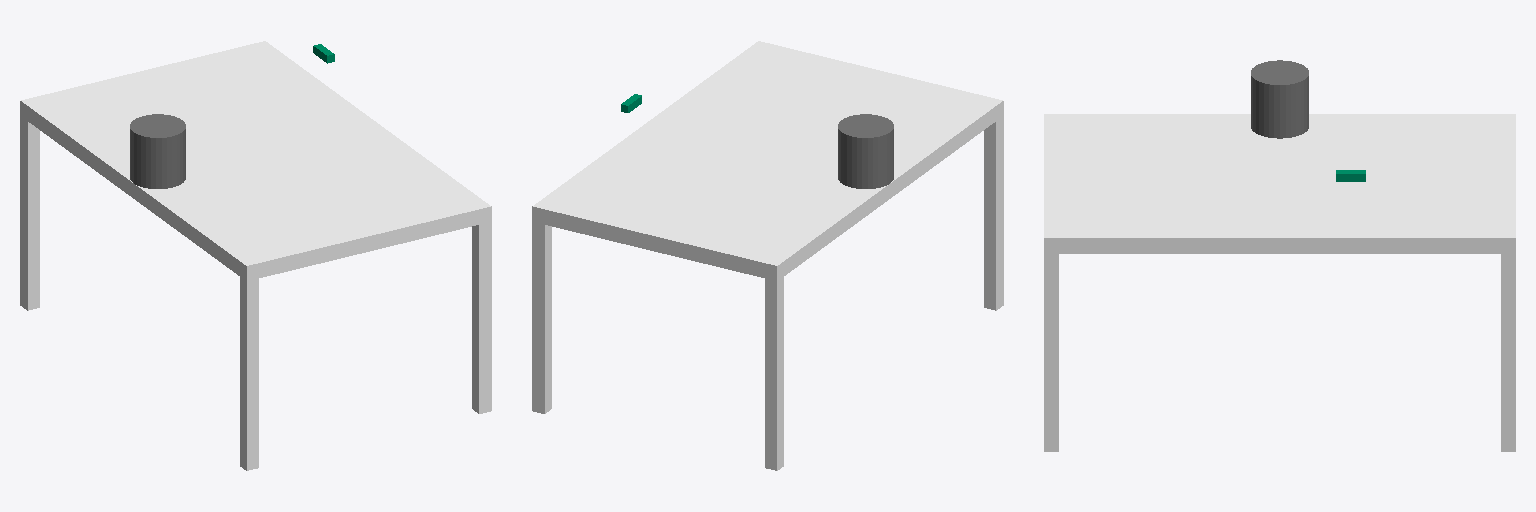
robot.urdf — ur5_3finger:
<?xml version="1.0" ?>
<!-- =================================================================================== -->
<!-- |    This document was autogenerated by xacro from ur5_peg.urdf.xacro             | -->
<!-- |    EDITING THIS FILE BY HAND IS NOT RECOMMENDED                                 | -->
<!-- =================================================================================== -->
<robot name="ur5_3finger">
  <gazebo>
    <plugin filename="libgazebo_ros_control.so" name="ros_control">
      <!--robotNamespace>/</robotNamespace-->
      <!--robotSimType>gazebo_ros_control/DefaultRobotHWSim</robotSimType-->
    </plugin>
    <!--
    <plugin name="gazebo_ros_power_monitor_controller" filename="libgazebo_ros_power_monitor.so">
      <alwaysOn>true</alwaysOn>
      <updateRate>1.0</updateRate>
      <timeout>5</timeout>
      <powerStateTopic>power_state</powerStateTopic>
      <powerStateRate>10.0</powerStateRate>
      <fullChargeCapacity>87.78</fullChargeCapacity>     
      <dischargeRate>-474</dischargeRate>
      <chargeRate>525</chargeRate>
      <dischargeVoltage>15.52</dischargeVoltage>
      <chargeVoltage>16.41</chargeVoltage>
    </plugin>
-->
  </gazebo>
  <!-- measured from model -->
  <!--property name="shoulder_height" value="0.089159" /-->
  <!--property name="shoulder_offset" value="0.13585" /-->
  <!-- shoulder_offset - elbow_offset + wrist_1_length = 0.10915 -->
  <!--property name="upper_arm_length" value="0.42500" /-->
  <!--property name="elbow_offset" value="0.1197" /-->
  <!-- CAD measured -->
  <!--property name="forearm_length" value="0.39225" /-->
  <!--property name="wrist_1_length" value="0.093" /-->
  <!-- CAD measured -->
  <!--property name="wrist_2_length" value="0.09465" /-->
  <!-- In CAD this distance is 0.930, but in the spec it is 0.09465 -->
  <!--property name="wrist_3_length" value="0.0823" /-->
  <!-- manually measured -->
  <link name="base_link">
    <visual>
      <geometry>
        <mesh filename="package://ur_description/meshes/ur5/visual/base.dae"/>
      </geometry>
      <material name="LightGrey">
        <color rgba="0.7 0.7 0.7 1.0"/>
      </material>
    </visual>
    <collision>
      <geometry>
        <mesh filename="package://ur_description/meshes/ur5/collision/base.stl"/>
      </geometry>
    </collision>
    <inertial>
      <mass value="4.0"/>
      <origin rpy="0 0 0" xyz="0.0 0.0 0.0"/>
      <inertia ixx="0.00443333156" ixy="0.0" ixz="0.0" iyy="0.00443333156" iyz="0.0" izz="0.0072"/>
    </inertial>
  </link>
  <joint name="shoulder_pan_joint" type="revolute">
    <parent link="base_link"/>
    <child link="shoulder_link"/>
    <origin rpy="0.0 0.0 0.0" xyz="0.0 0.0 0.089159"/>
    <axis xyz="0 0 1"/>
    <limit effort="150.0" lower="-6.283185307179586" upper="6.283185307179586" velocity="3.15"/>
    <dynamics damping="0.0" friction="0.0"/>
  </joint>
  <link name="shoulder_link">
    <visual>
      <geometry>
        <mesh filename="package://ur_description/meshes/ur5/visual/shoulder.dae"/>
      </geometry>
      <material name="LightGrey">
        <color rgba="0.7 0.7 0.7 1.0"/>
      </material>
    </visual>
    <collision>
      <geometry>
        <mesh filename="package://ur_description/meshes/ur5/collision/shoulder.stl"/>
      </geometry>
    </collision>
    <inertial>
      <mass value="3.7"/>
      <origin rpy="0 0 0" xyz="0.0 0.0 0.0"/>
      <inertia ixx="0.010267495893" ixy="0.0" ixz="0.0" iyy="0.010267495893" iyz="0.0" izz="0.00666"/>
    </inertial>
  </link>
  <joint name="shoulder_lift_joint" type="revolute">
    <parent link="shoulder_link"/>
    <child link="upper_arm_link"/>
    <origin rpy="0.0 1.5707963267948966 0.0" xyz="0.0 0.13585 0.0"/>
    <axis xyz="0 1 0"/>
    <limit effort="150.0" lower="-6.283185307179586" upper="6.283185307179586" velocity="3.15"/>
    <dynamics damping="0.0" friction="0.0"/>
  </joint>
  <link name="upper_arm_link">
    <visual>
      <geometry>
        <mesh filename="package://ur_description/meshes/ur5/visual/upperarm.dae"/>
      </geometry>
      <material name="LightGrey">
        <color rgba="0.7 0.7 0.7 1.0"/>
      </material>
    </visual>
    <collision>
      <geometry>
        <mesh filename="package://ur_description/meshes/ur5/collision/upperarm.stl"/>
      </geometry>
    </collision>
    <inertial>
      <mass value="8.393"/>
      <origin rpy="0 0 0" xyz="0.0 0.0 0.28"/>
      <inertia ixx="0.22689067591036005" ixy="0.0" ixz="0.0" iyy="0.22689067591036005" iyz="0.0" izz="0.0151074"/>
    </inertial>
  </link>
  <joint name="elbow_joint" type="revolute">
    <parent link="upper_arm_link"/>
    <child link="forearm_link"/>
    <origin rpy="0.0 0.0 0.0" xyz="0.0 -0.1197 0.425"/>
    <axis xyz="0 1 0"/>
    <limit effort="150.0" lower="-3.141592653589793" upper="3.141592653589793" velocity="3.15"/>
    <dynamics damping="0.0" friction="0.0"/>
  </joint>
  <link name="forearm_link">
    <visual>
      <geometry>
        <mesh filename="package://ur_description/meshes/ur5/visual/forearm.dae"/>
      </geometry>
      <material name="LightGrey">
        <color rgba="0.7 0.7 0.7 1.0"/>
      </material>
    </visual>
    <collision>
      <geometry>
        <mesh filename="package://ur_description/meshes/ur5/collision/forearm.stl"/>
      </geometry>
    </collision>
    <inertial>
      <mass value="2.275"/>
      <origin rpy="0 0 0" xyz="0.0 0.0 0.196125"/>
      <inertia ixx="0.03121679102890359" ixy="0.0" ixz="0.0" iyy="0.03121679102890359" iyz="0.0" izz="0.004095"/>
    </inertial>
  </link>
  <joint name="wrist_1_joint" type="revolute">
    <parent link="forearm_link"/>
    <child link="wrist_1_link"/>
    <origin rpy="0.0 1.5707963267948966 0.0" xyz="0.0 0.0 0.39225"/>
    <axis xyz="0 1 0"/>
    <limit effort="28.0" lower="-6.283185307179586" upper="6.283185307179586" velocity="3.2"/>
    <dynamics damping="0.0" friction="0.0"/>
  </joint>
  <link name="wrist_1_link">
    <visual>
      <geometry>
        <mesh filename="package://ur_description/meshes/ur5/visual/wrist1.dae"/>
      </geometry>
      <material name="LightGrey">
        <color rgba="0.7 0.7 0.7 1.0"/>
      </material>
    </visual>
    <collision>
      <geometry>
        <mesh filename="package://ur_description/meshes/ur5/collision/wrist1.stl"/>
      </geometry>
    </collision>
    <inertial>
      <mass value="1.219"/>
      <origin rpy="0 0 0" xyz="0.0 0.093 0.0"/>
      <inertia ixx="0.0025598989760400002" ixy="0.0" ixz="0.0" iyy="0.0025598989760400002" iyz="0.0" izz="0.0021942"/>
    </inertial>
  </link>
  <joint name="wrist_2_joint" type="revolute">
    <parent link="wrist_1_link"/>
    <child link="wrist_2_link"/>
    <origin rpy="0.0 0.0 0.0" xyz="0.0 0.093 0.0"/>
    <axis xyz="0 0 1"/>
    <limit effort="28.0" lower="-6.283185307179586" upper="6.283185307179586" velocity="3.2"/>
    <dynamics damping="0.0" friction="0.0"/>
  </joint>
  <link name="wrist_2_link">
    <visual>
      <geometry>
        <mesh filename="package://ur_description/meshes/ur5/visual/wrist2.dae"/>
      </geometry>
      <material name="LightGrey">
        <color rgba="0.7 0.7 0.7 1.0"/>
      </material>
    </visual>
    <collision>
      <geometry>
        <mesh filename="package://ur_description/meshes/ur5/collision/wrist2.stl"/>
      </geometry>
    </collision>
    <inertial>
      <mass value="1.219"/>
      <origin rpy="0 0 0" xyz="0.0 0.0 0.09465"/>
      <inertia ixx="0.0025598989760400002" ixy="0.0" ixz="0.0" iyy="0.0025598989760400002" iyz="0.0" izz="0.0021942"/>
    </inertial>
  </link>
  <joint name="wrist_3_joint" type="revolute">
    <parent link="wrist_2_link"/>
    <child link="wrist_3_link"/>
    <origin rpy="0.0 0.0 0.0" xyz="0.0 0.0 0.09465"/>
    <axis xyz="0 1 0"/>
    <limit effort="28.0" lower="-6.283185307179586" upper="6.283185307179586" velocity="3.2"/>
    <dynamics damping="0.0" friction="0.0"/>
  </joint>
  <link name="wrist_3_link">
    <visual>
      <geometry>
        <mesh filename="package://ur_description/meshes/ur5/visual/wrist3.dae"/>
      </geometry>
      <material name="LightGrey">
        <color rgba="0.7 0.7 0.7 1.0"/>
      </material>
    </visual>
    <collision>
      <geometry>
        <mesh filename="package://ur_description/meshes/ur5/collision/wrist3.stl"/>
      </geometry>
    </collision>
    <inertial>
      <mass value="0.1879"/>
      <origin rpy="1.5707963267948966 0 0" xyz="0.0 0.06505 0.0"/>
      <inertia ixx="8.469589112163e-05" ixy="0.0" ixz="0.0" iyy="8.469589112163e-05" iyz="0.0" izz="0.0001321171875"/>
    </inertial>
  </link>
  <joint name="ee_fixed_joint" type="fixed">
    <parent link="wrist_3_link"/>
    <child link="ee_link"/>
    <origin rpy="0.0 0.0 1.5707963267948966" xyz="0.0 0.0823 0.0"/>
  </joint>
  <link name="ee_link">
    <collision>
      <geometry>
        <box size="0.01 0.01 0.01"/>
      </geometry>
      <origin rpy="0 0 0" xyz="-0.01 0 0"/>
    </collision>
  </link>
  <transmission name="shoulder_pan_trans">
    <type>transmission_interface/SimpleTransmission</type>
    <joint name="shoulder_pan_joint">
      <hardwareInterface>hardware_interface/PositionJointInterface</hardwareInterface>
    </joint>
    <actuator name="shoulder_pan_motor">
      <mechanicalReduction>1</mechanicalReduction>
    </actuator>
  </transmission>
  <transmission name="shoulder_lift_trans">
    <type>transmission_interface/SimpleTransmission</type>
    <joint name="shoulder_lift_joint">
      <hardwareInterface>hardware_interface/PositionJointInterface</hardwareInterface>
    </joint>
    <actuator name="shoulder_lift_motor">
      <mechanicalReduction>1</mechanicalReduction>
    </actuator>
  </transmission>
  <transmission name="elbow_trans">
    <type>transmission_interface/SimpleTransmission</type>
    <joint name="elbow_joint">
      <hardwareInterface>hardware_interface/PositionJointInterface</hardwareInterface>
    </joint>
    <actuator name="elbow_motor">
      <mechanicalReduction>1</mechanicalReduction>
    </actuator>
  </transmission>
  <transmission name="wrist_1_trans">
    <type>transmission_interface/SimpleTransmission</type>
    <joint name="wrist_1_joint">
      <hardwareInterface>hardware_interface/PositionJointInterface</hardwareInterface>
    </joint>
    <actuator name="wrist_1_motor">
      <mechanicalReduction>1</mechanicalReduction>
    </actuator>
  </transmission>
  <transmission name="wrist_2_trans">
    <type>transmission_interface/SimpleTransmission</type>
    <joint name="wrist_2_joint">
      <hardwareInterface>hardware_interface/PositionJointInterface</hardwareInterface>
    </joint>
    <actuator name="wrist_2_motor">
      <mechanicalReduction>1</mechanicalReduction>
    </actuator>
  </transmission>
  <transmission name="wrist_3_trans">
    <type>transmission_interface/SimpleTransmission</type>
    <joint name="wrist_3_joint">
      <hardwareInterface>hardware_interface/PositionJointInterface</hardwareInterface>
    </joint>
    <actuator name="wrist_3_motor">
      <mechanicalReduction>1</mechanicalReduction>
    </actuator>
  </transmission>
  <gazebo reference="shoulder_link">
    <selfCollide>true</selfCollide>
  </gazebo>
  <gazebo reference="upper_arm_link">
    <selfCollide>true</selfCollide>
  </gazebo>
  <gazebo reference="forearm_link">
    <selfCollide>true</selfCollide>
  </gazebo>
  <gazebo reference="wrist_1_link">
    <selfCollide>true</selfCollide>
  </gazebo>
  <gazebo reference="wrist_3_link">
    <selfCollide>true</selfCollide>
  </gazebo>
  <gazebo reference="wrist_2_link">
    <selfCollide>true</selfCollide>
  </gazebo>
  <gazebo reference="ee_link">
    <selfCollide>true</selfCollide>
  </gazebo>
  <!-- ROS base_link to UR 'Base' Coordinates transform -->
  <link name="base"/>
  <joint name="base_link-base_fixed_joint" type="fixed">
    <!-- NOTE: this rotation is only needed as long as base_link itself is
                 not corrected wrt the real robot (ie: rotated over 180
                 degrees)
      -->
    <origin rpy="0 0 -3.141592653589793" xyz="0 0 0"/>
    <parent link="base_link"/>
    <child link="base"/>
  </joint>
  <!-- Frame coincident with all-zeros TCP on UR controller -->
  <link name="tool0"/>
  <joint name="wrist_3_link-tool0_fixed_joint" type="fixed">
    <origin rpy="-1.5707963267948966 0 0" xyz="0 0.0823 0"/>
    <parent link="wrist_3_link"/>
    <child link="tool0"/>
  </joint>
  <link name="peg">
    <visual>
      <geometry>
        <box size="0.03 0.03 0.1"/>
        <!-- <cylinder radius="0.03" length="0.1"/> -->
      </geometry>
      <origin rpy="0 0 0" xyz="0 0 0.05"/>
    </visual>
    <collision>
      <geometry>
        <box size="0.03 0.03 0.1"/>
        <!-- <cylinder radius="0.03" length="0.1"/> -->
      </geometry>
      <origin rpy="0 0 0" xyz="0 0 0.05"/>
    </collision>
  </link>
  <joint name="peg_joint" type="fixed">
    <parent link="ee_link"/>
    <child link="peg"/>
    <origin rpy="0.0 1.5708 0.0" xyz="0.0 0.0 0.0"/>
  </joint>
  <link name="world"/>
  <material name="white">
    <color rgba="1 1 1 1"/>
  </material>
  <link name="right_front_leg">
    <visual>
      <geometry>
        <box size="0.05 0.05 0.74"/>
      </geometry>
      <origin rpy="0 0 0" xyz="0 0 -0.37"/>
      <material name="white"/>
    </visual>
    <collision>
      <geometry>
        <box size="0.05 0.05 0.73"/>
      </geometry>
      <origin rpy="0 0 0" xyz="0 0 -0.37"/>
    </collision>
    <inertial>
      <mass value="1"/>
      <inertia ixx="1.0" ixy="0.0" ixz="0.0" iyy="1.0" iyz="0.0" izz="1.0"/>
    </inertial>
  </link>
  <joint name="base_to_right_front_leg" type="fixed">
    <parent link="plate"/>
    <child link="right_front_leg"/>
    <origin xyz="0.475 -0.775 -0.06"/>
  </joint>
  <gazebo reference="right_front_leg">
    <mu1>1.0</mu1>
    <mu2>1.0</mu2>
    <material>Gazebo/Wood</material>
  </gazebo>
  <!-- A bunch of stuff cut -->
  <link name="left_front_leg">
    <visual>
      <geometry>
        <box size="0.05 0.05 0.74"/>
      </geometry>
      <origin rpy="0 0 0" xyz="0 0 -0.37"/>
      <material name="white"/>
    </visual>
    <collision>
      <geometry>
        <box size="0.05 0.05 0.73"/>
      </geometry>
      <origin rpy="0 0 0" xyz="0 0 -0.37"/>
    </collision>
    <inertial>
      <mass value="1"/>
      <inertia ixx="1.0" ixy="0.0" ixz="0.0" iyy="1.0" iyz="0.0" izz="1.0"/>
    </inertial>
  </link>
  <joint name="base_to_left_front_leg" type="fixed">
    <parent link="plate"/>
    <child link="left_front_leg"/>
    <origin xyz="0.475 0.775 -0.06"/>
  </joint>
  <gazebo reference="left_front_leg">
    <mu1>1.0</mu1>
    <mu2>1.0</mu2>
    <material>Gazebo/Wood</material>
  </gazebo>
  <!-- A bunch of stuff cut -->
  <link name="right_back_leg">
    <visual>
      <geometry>
        <box size="0.05 0.05 0.74"/>
      </geometry>
      <origin rpy="0 0 0" xyz="0 0 -0.37"/>
      <material name="white"/>
    </visual>
    <collision>
      <geometry>
        <box size="0.05 0.05 0.73"/>
      </geometry>
      <origin rpy="0 0 0" xyz="0 0 -0.37"/>
    </collision>
    <inertial>
      <mass value="1"/>
      <inertia ixx="1.0" ixy="0.0" ixz="0.0" iyy="1.0" iyz="0.0" izz="1.0"/>
    </inertial>
  </link>
  <joint name="base_to_right_back_leg" type="fixed">
    <parent link="plate"/>
    <child link="right_back_leg"/>
    <origin xyz="-0.475 -0.775 -0.06"/>
  </joint>
  <gazebo reference="right_back_leg">
    <mu1>1.0</mu1>
    <mu2>1.0</mu2>
    <material>Gazebo/Wood</material>
  </gazebo>
  <!-- A bunch of stuff cut -->
  <link name="left_back_leg">
    <visual>
      <geometry>
        <box size="0.05 0.05 0.74"/>
      </geometry>
      <origin rpy="0 0 0" xyz="0 0 -0.37"/>
      <material name="white"/>
    </visual>
    <collision>
      <geometry>
        <box size="0.05 0.05 0.73"/>
      </geometry>
      <origin rpy="0 0 0" xyz="0 0 -0.37"/>
    </collision>
    <inertial>
      <mass value="1"/>
      <inertia ixx="1.0" ixy="0.0" ixz="0.0" iyy="1.0" iyz="0.0" izz="1.0"/>
    </inertial>
  </link>
  <joint name="base_to_left_back_leg" type="fixed">
    <parent link="plate"/>
    <child link="left_back_leg"/>
    <origin xyz="-0.475 0.775 -0.06"/>
  </joint>
  <gazebo reference="left_back_leg">
    <mu1>1.0</mu1>
    <mu2>1.0</mu2>
    <material>Gazebo/Wood</material>
  </gazebo>
  <!-- A bunch of stuff cut -->
  <link name="plate">
    <visual>
      <origin rpy="0.0 0.0 0.0" xyz="0.0 0.0 -0.03"/>
      <geometry>
        <box size="1.0 1.6 0.06"/>
      </geometry>
      <material name="white"/>
    </visual>
    <collision>
      <origin rpy="0.0 0.0 0.0" xyz="0.0 0.0 -0.03"/>
      <geometry>
        <box size="1.0 1.6 0.06"/>
      </geometry>
    </collision>
    <inertial>
      <mass value="5"/>
      <inertia ixx="1.0" ixy="0.0" ixz="0.0" iyy="1.0" iyz="0.0" izz="1.0"/>
    </inertial>
  </link>
  <gazebo reference="plate">
    <mu1>0.2</mu1>
    <mu2>0.2</mu2>
    <material>Gazebo/Yellow</material>
  </gazebo>
  <joint name="world_joint" type="fixed">
    <parent link="world"/>
    <child link="plate"/>
    <origin rpy="0.0 0.0 0.0" xyz="0.0 0.0 0.8"/>
  </joint>
  <joint name="pedestal_joint" type="fixed">
    <parent link="plate"/>
    <child link="pedestal"/>
    <origin rpy="0.0 0.0 0.0" xyz="-0.4 0.0 0.0"/>
  </joint>
  <link name="pedestal">
    <inertial>
      <mass value="10"/>
      <inertia ixx="1.0" ixy="0.0" ixz="0.0" iyy="1.0" iyz="0.0" izz="1.0"/>
    </inertial>
    <visual>
      <origin rpy="0 0 0" xyz="0 0 0.1"/>
      <geometry>
        <cylinder length="0.2" radius="0.1"/>
      </geometry>
      <material name="Gray">
        <color rgba="0.5 0.5 0.5 1"/>
      </material>
    </visual>
    <collision>
      <origin rpy="0 0 0" xyz="0 0 0.1"/>
      <geometry>
        <cylinder length="0.19" radius="0.1"/>
      </geometry>
    </collision>
  </link>
  <gazebo reference="pedestal">
    <mu1>0.2</mu1>
    <mu2>0.2</mu2>
    <material>Gazebo/Orange</material>
  </gazebo>
  <joint name="base_joint" type="fixed">
    <parent link="pedestal"/>
    <child link="base_link"/>
    <origin rpy="0.0 0.0 0.0" xyz="0.0 0.0 0.2"/>
  </joint>
  <gazebo reference="base_link">
    <mu1>0.2</mu1>
    <mu2>0.2</mu2>
    <material>Gazebo/Turquoise</material>
  </gazebo>
  <gazebo reference="shoulder_link">
    <mu1>0.2</mu1>
    <mu2>0.2</mu2>
    <material>Gazebo/Turquoise</material>
  </gazebo>
  <gazebo reference="upper_arm_link">
    <mu1>0.2</mu1>
    <mu2>0.2</mu2>
    <material>Gazebo/Turquoise</material>
  </gazebo>
  <gazebo reference="forearm_link">
    <mu1>0.2</mu1>
    <mu2>0.2</mu2>
    <material>Gazebo/Turquoise</material>
  </gazebo>
  <gazebo reference="wrist_1_link">
    <mu1>0.2</mu1>
    <mu2>0.2</mu2>
    <material>Gazebo/Turquoise</material>
  </gazebo>
  <gazebo reference="wrist_2_link">
    <mu1>0.2</mu1>
    <mu2>0.2</mu2>
    <material>Gazebo/Turquoise</material>
  </gazebo>
  <gazebo reference="wrist_3_link">
    <mu1>0.2</mu1>
    <mu2>0.2</mu2>
    <material>Gazebo/Turquoise</material>
  </gazebo>
  <gazebo reference="peg">
    <sensor name="peg_contact_sensor" type="contact">
      <geom>peg_geom</geom>
      <updateRate>100.0</updateRate>
      <controller name="peg_gazebo_ros_bumper_controller" plugin="libgazebo_ros_bumper.so" type="gazebo_ros_bumper">
        <alwaysOn>true</alwaysOn>
        <updateRate>100.0</updateRate>
        <bumperTopicName>peg_bumper</bumperTopicName>
        <interface name="peg_bumper_iface" type="bumper"/>
      </controller>
    </sensor>
    <!-- <sensor name="peg_contactsensor" type="contact">
            <always_on>true</always_on>
            <contact>
                <collision>wrist_3_link_fixed_joint_lump__peg_collision_2</collision>
            </contact>
            <plugin filename="libgazebo_ros_bumper.so" name="contact_sensor_plugin">
                <bumperTopicName>asl/contact_sensor</bumperTopicName>
                <frameName>world</frameName>
            </plugin>
        </sensor> -->
  </gazebo>
  <!-- <gazebo>
        <plugin name="gazebo_grasp_fix" filename="libgazebo_grasp_fix.so">
            <arm>
                <arm_name>manipulator</arm_name>
                <palm_link>wrist_3_link</palm_link>
                <gripper_link>H1_F1_base_link</gripper_link>
                <gripper_link>H1_F1_link_1</gripper_link>
                <gripper_link>H1_F1_link_2</gripper_link>
                <gripper_link>H1_F1_tip</gripper_link>
                <gripper_link>H1_F2_base_link</gripper_link>
                <gripper_link>H1_F2_link_1</gripper_link>
                <gripper_link>H1_F2_link_2</gripper_link>
                <gripper_link>H1_F2_tip</gripper_link>
                <gripper_link>H1_F3_base_link</gripper_link>
                <gripper_link>H1_F3_link_1</gripper_link>
                <gripper_link>H1_F3_link_2</gripper_link>
                <gripper_link>H1_F3_tip</gripper_link>
            </arm>
            <forces_angle_tolerance>100</forces_angle_tolerance>
            <update_rate>4</update_rate>
            <grip_count_threshold>4</grip_count_threshold>
            <max_grip_count>8</max_grip_count>
            <release_tolerance>0.005</release_tolerance>
            <disable_collisions_on_attach>false</disable_collisions_on_attach>
            <contact_topic>__default_topic__</contact_topic>
        </plugin>
    </gazebo> -->
</robot>

--- Facts derived from the render (not from the file) ---
3 views of the same robot in one strip: view 1: azimuth 30°, elevation 25°; view 2: azimuth 150°, elevation 25°; view 3: azimuth 270°, elevation 25° (orthographic).
Robot: ur5_3finger — 18 links, 17 joints (6 revolute, 11 fixed); root link world; default pose: every joint at zero.
Visible links, largest first — view 1: plate, pedestal, right_front_leg, left_back_leg, right_back_leg; view 2: plate, pedestal, left_front_leg, right_back_leg, left_back_leg; view 3: plate, pedestal, right_front_leg, left_front_leg.
Link boxes in pixels (bbox=[...]): plate: bbox=[20, 41, 491, 280]; pedestal: bbox=[130, 114, 185, 188]; right_front_leg: bbox=[472, 222, 491, 413]; left_back_leg: bbox=[20, 116, 39, 310]; right_back_leg: bbox=[240, 277, 258, 470]; plate: bbox=[532, 41, 1003, 280]; pedestal: bbox=[838, 114, 893, 188]; left_front_leg: bbox=[532, 222, 551, 413]; right_back_leg: bbox=[984, 116, 1003, 310]; left_back_leg: bbox=[765, 277, 783, 470]; plate: bbox=[1044, 114, 1515, 253]; pedestal: bbox=[1251, 60, 1308, 138]; right_front_leg: bbox=[1044, 254, 1058, 451]; left_front_leg: bbox=[1501, 254, 1515, 451].
Bounding box of the posed robot: 1 × 1.6 × 1.01 m (x, y, z).
0 mesh visuals loaded from 7 distinct referenced files (none loaded); not drawn: 7 (reference not matched to a file when rendering).